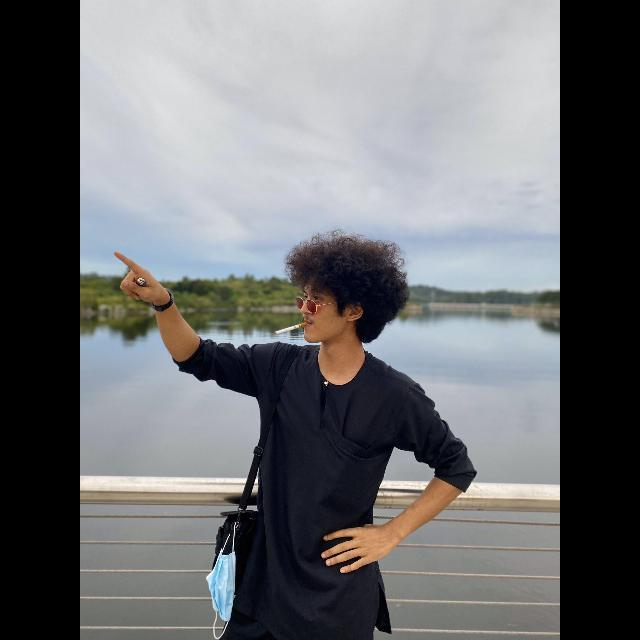rokok: (270, 320, 314, 340)
